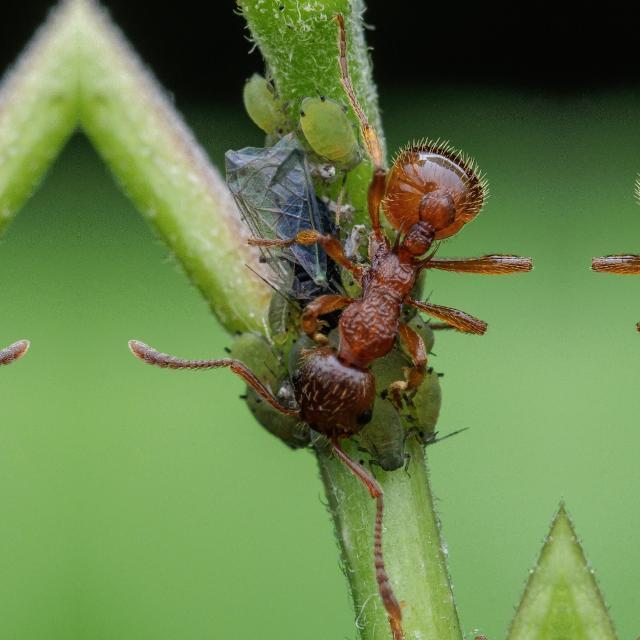Myrmica: (238, 90, 512, 483)
